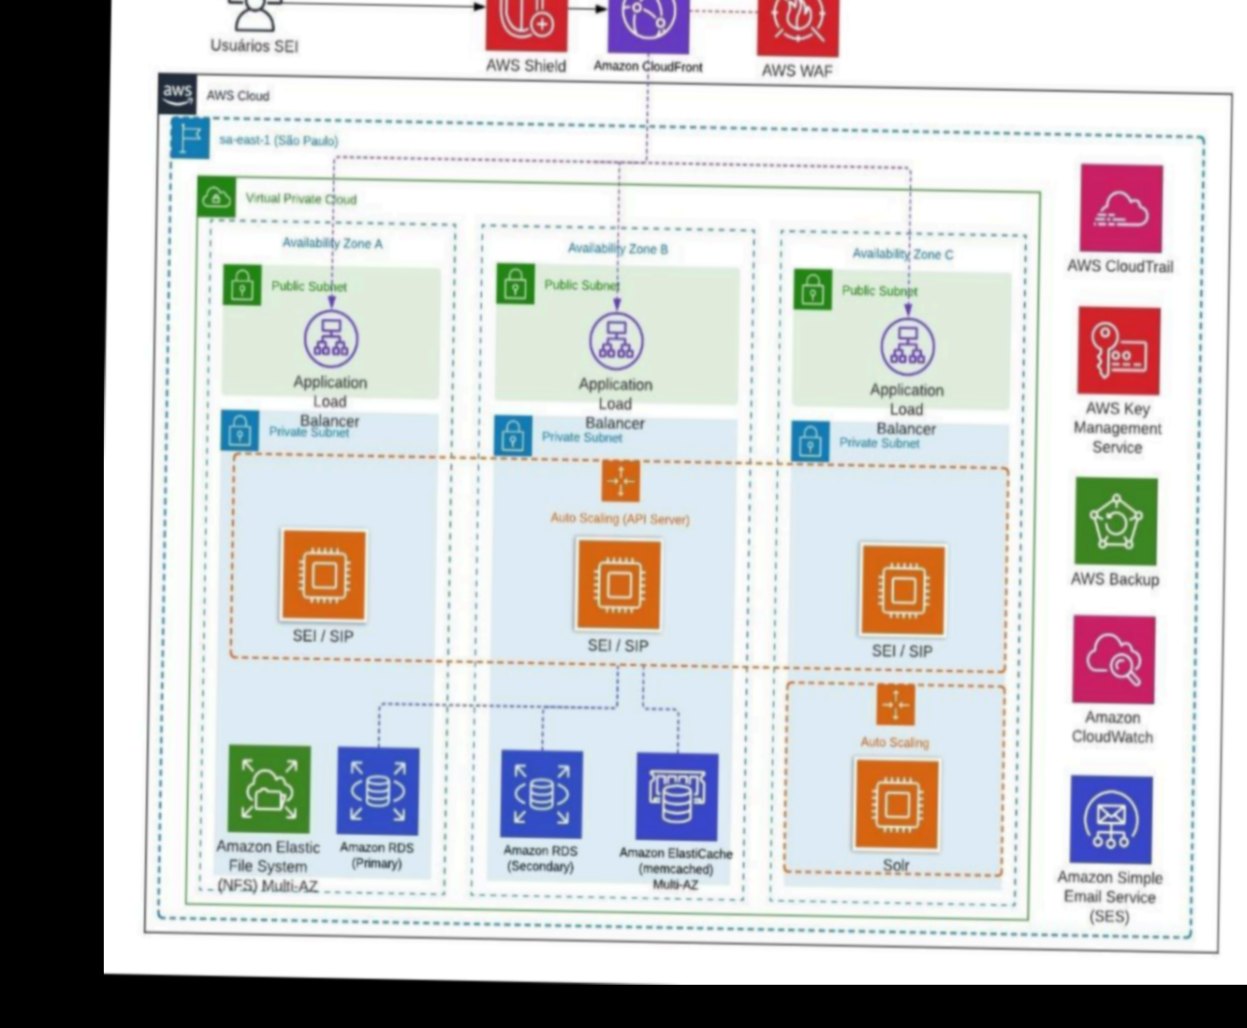aws_application_load_balancer: (875, 314, 937, 376), (299, 306, 361, 368), (583, 309, 645, 370)
aws_autoscaling: (601, 459, 638, 501), (876, 682, 914, 723)
aws_backup: (1074, 475, 1155, 564)
aws_cloud: (154, 71, 196, 110)
aws_cloud_trail: (1080, 161, 1161, 249)
aws_cloudfront: (604, 0, 689, 54)
aws_cloudwatch: (1072, 617, 1152, 704)
aws_elactic_file_system(nfs)_multi-az: (228, 743, 309, 833)
aws_elasticache: (633, 754, 717, 842)
aws_key_management_service: (1075, 305, 1160, 396)
aws_private_subnet: (790, 419, 828, 464), (220, 408, 258, 449), (494, 413, 532, 454)
aws_public_subnet: (483, 0, 568, 53), (220, 261, 261, 305), (494, 261, 534, 305), (793, 267, 829, 309)
aws_rds: (338, 746, 419, 831), (501, 750, 582, 835)
aws_region: (168, 115, 210, 158)
aws_simple_email_service: (1069, 774, 1152, 867)
aws_virtual_private_cloud: (196, 176, 236, 218)
aws_waf: (750, 0, 841, 59)
sei/sip: (573, 535, 660, 629), (858, 540, 945, 634), (280, 526, 366, 620)
solr: (854, 756, 936, 844)
user: (218, 0, 288, 32)
